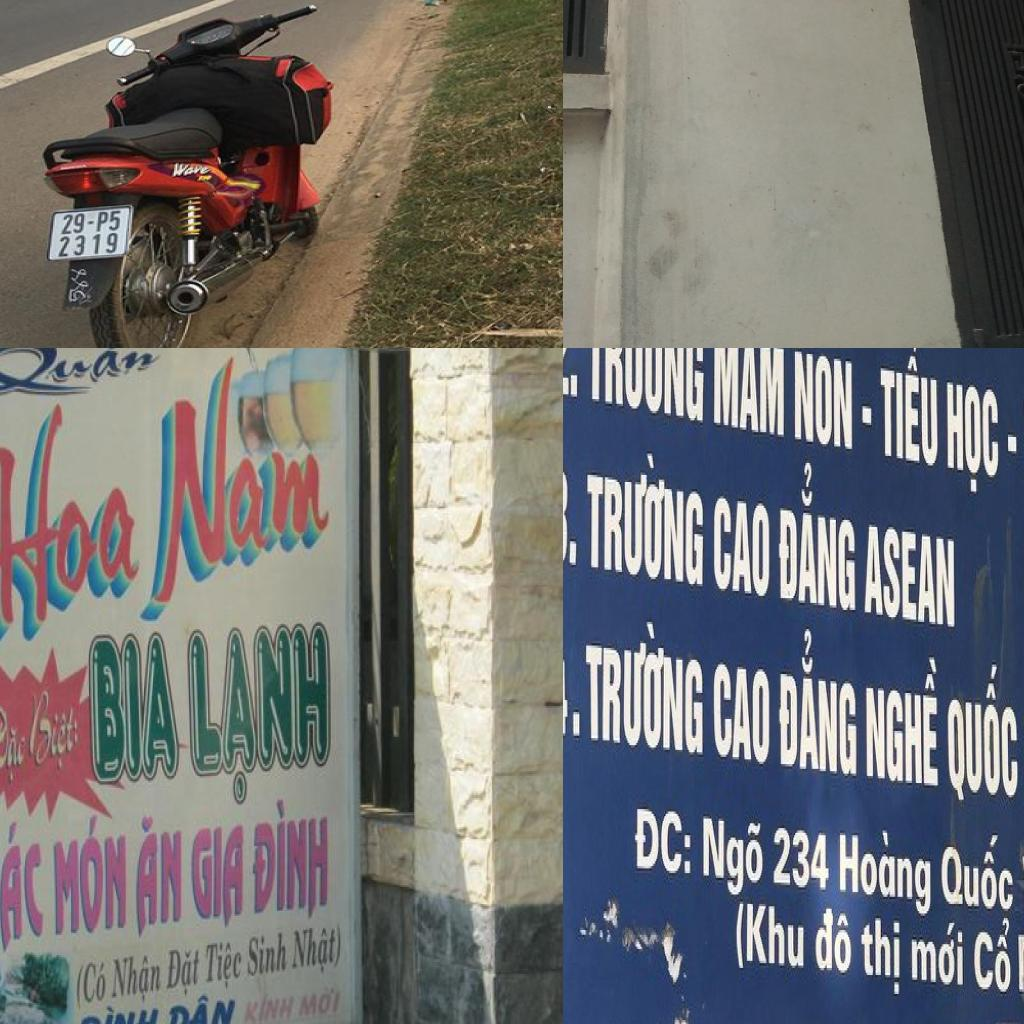text: (140, 358, 344, 626), (0, 402, 145, 653), (182, 616, 335, 814), (583, 608, 705, 762), (585, 437, 706, 591), (88, 633, 184, 786), (776, 451, 858, 617), (776, 622, 858, 781), (944, 655, 1020, 814), (249, 795, 335, 926), (864, 648, 942, 792), (862, 520, 956, 634), (49, 812, 130, 941), (586, 348, 706, 427), (838, 821, 933, 920), (0, 348, 164, 402), (877, 348, 939, 474), (130, 810, 186, 940), (938, 826, 1016, 916), (712, 348, 787, 441), (712, 491, 772, 603), (792, 348, 854, 456), (713, 657, 772, 769), (945, 378, 1000, 498), (0, 817, 46, 957), (192, 817, 246, 930), (701, 812, 765, 902), (734, 899, 805, 980), (29, 686, 84, 774), (633, 802, 693, 878), (909, 918, 966, 992), (771, 824, 831, 894), (860, 918, 902, 999), (972, 916, 1013, 996), (111, 948, 166, 1006), (814, 904, 854, 980), (291, 924, 344, 978), (203, 935, 245, 996), (164, 992, 242, 1024), (246, 928, 292, 982), (0, 701, 27, 789), (166, 941, 203, 998), (53, 230, 123, 260), (72, 956, 108, 1014), (78, 1001, 164, 1024), (563, 638, 582, 742), (295, 984, 345, 1022), (241, 991, 297, 1024), (58, 208, 123, 236), (563, 463, 580, 569), (65, 265, 92, 305), (563, 348, 580, 403), (168, 162, 216, 180)
